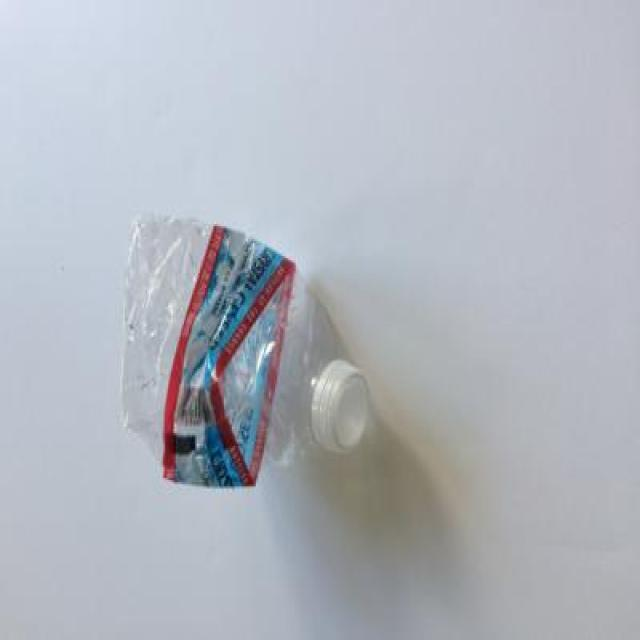plastic: (108, 197, 381, 492)
